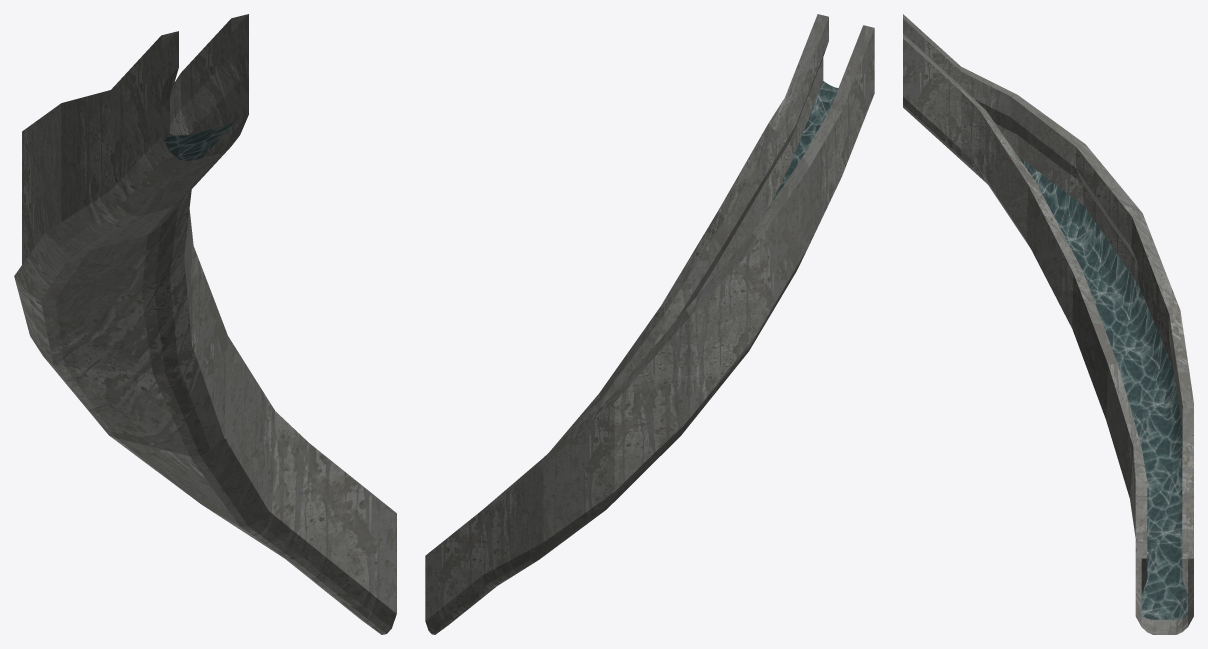
File: Dragonfly_IceSlide_Curved_Right.fbx
3 views of the same model, side by side, from view 1: azimuth 30°, elevation 25°; view 2: azimuth 150°, elevation 25°; view 3: azimuth 270°, elevation 25° (orthographic). The views are drawn at different scales.
Visible parts, largest first — view 1: 90DegRight; view 2: 90DegRight; view 3: 90DegRight.
Part boxes in pixels (bbox=[...]): 90DegRight: bbox=[14, 14, 396, 634]; 90DegRight: bbox=[425, 14, 874, 634]; 90DegRight: bbox=[903, 14, 1193, 634].
Size of the model in its own units: 50 by 94.5 by 50.
